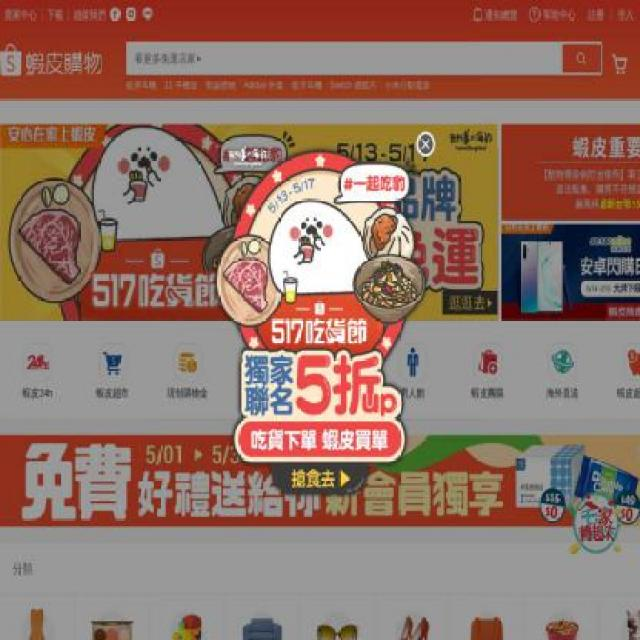button: (211, 140, 429, 500), (501, 124, 639, 221), (501, 224, 639, 321), (0, 40, 126, 89), (6, 328, 69, 418), (231, 328, 294, 418), (306, 328, 369, 418), (82, 328, 143, 418), (157, 328, 218, 418), (382, 328, 443, 418), (457, 328, 518, 418), (532, 328, 593, 418), (569, 486, 622, 556), (0, 594, 75, 639), (75, 595, 151, 639), (225, 595, 301, 639), (375, 595, 451, 639), (525, 595, 601, 639), (150, 595, 225, 639), (300, 595, 375, 639), (450, 595, 525, 639), (606, 328, 640, 419), (600, 595, 640, 639), (472, 0, 518, 29), (562, 44, 601, 73), (329, 78, 377, 91), (0, 7, 43, 21), (385, 78, 429, 91), (242, 78, 284, 91), (164, 78, 198, 91), (204, 78, 236, 91), (126, 78, 157, 91), (292, 78, 322, 91)
field: (134, 44, 563, 73)
